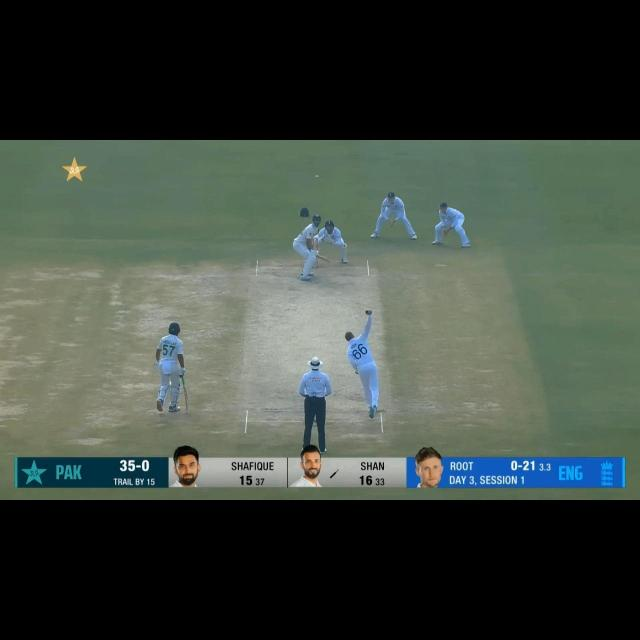bat: (182, 386, 191, 414), (316, 254, 330, 264)
toe: (184, 407, 190, 415), (324, 259, 331, 264)
